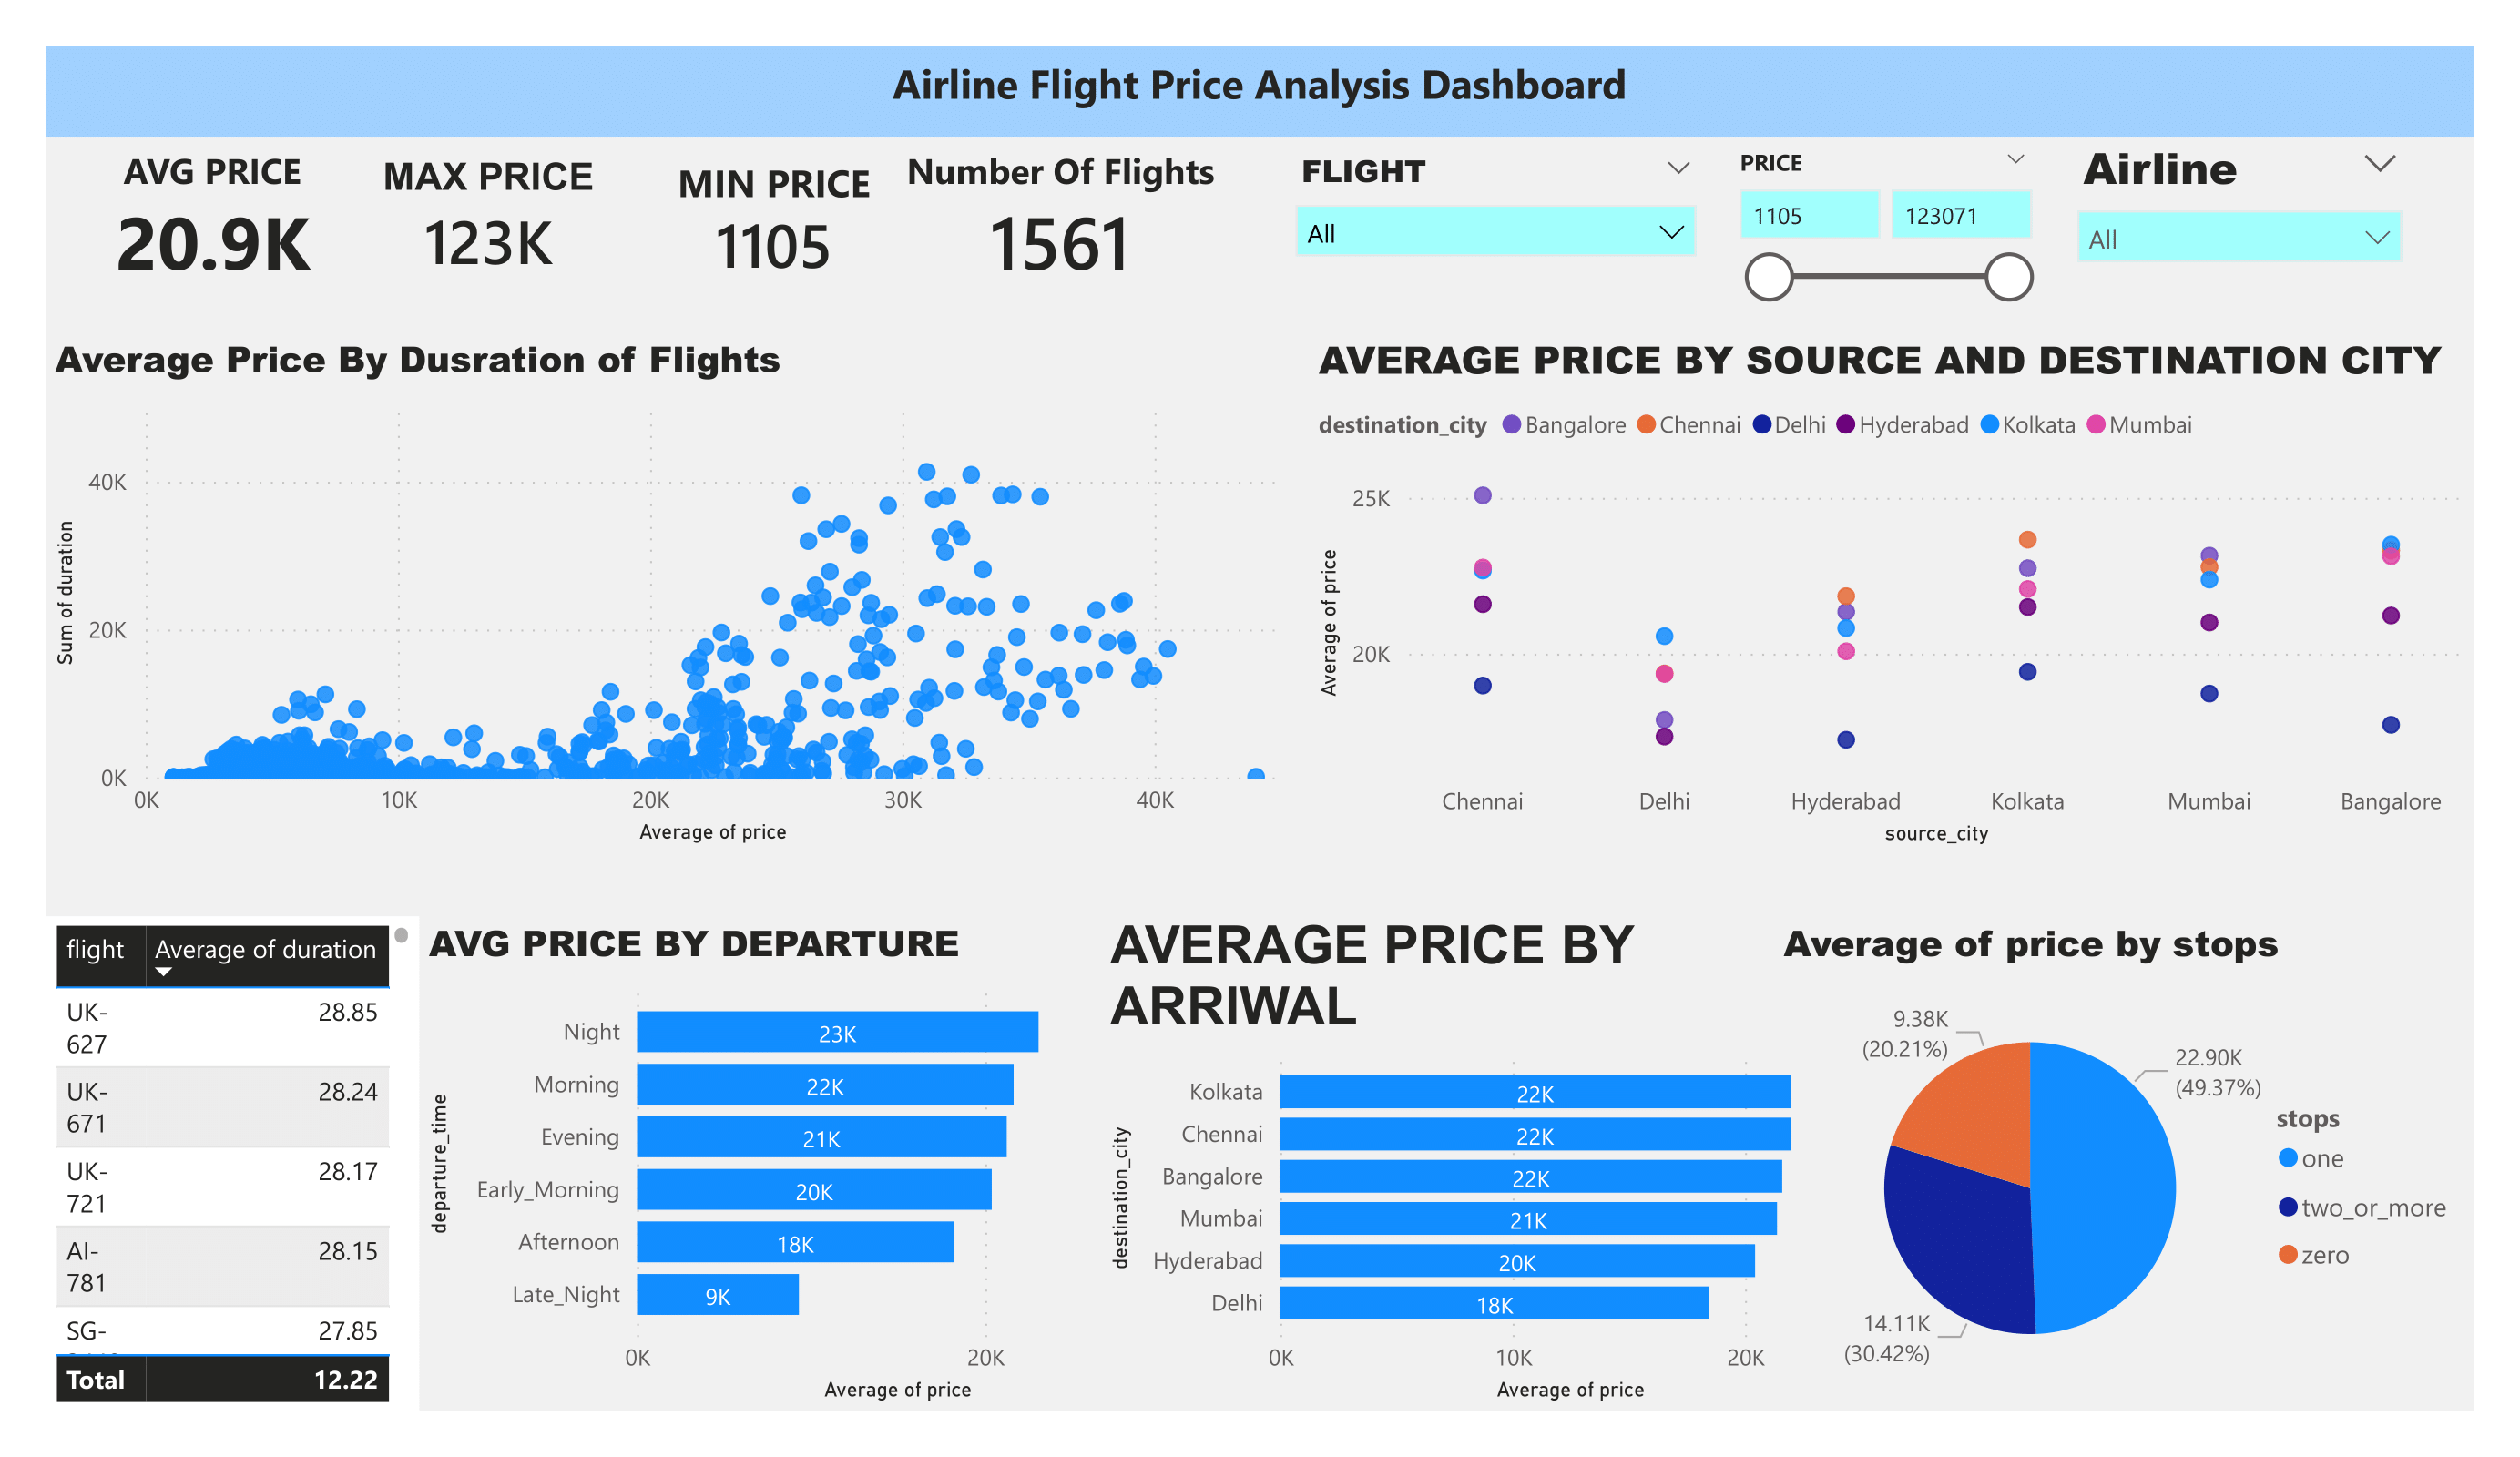

What the dashboard file says about the page in this screenshot:
{"tool":"powerbi","page":{"name":"Page 2","canvas":[1280,720],"ordinal":0},"visuals":[{"type":"card","title":"AVG PRICE","fields":{"Values":["Avg(Clean_Dataset.price)"]},"box":[0,53.1,176.1,73.6],"z":0},{"type":"card","title":"MIN PRICE","fields":{"Values":["Min(Clean_Dataset.price)"]},"box":[303.9,57.9,160.4,68.7],"z":1000},{"type":"card","title":"MAX PRICE","fields":{"Values":["Max(Clean_Dataset.price)"]},"box":[162.8,57.9,141.1,68.7],"z":2000},{"type":"card","title":"Number Of Flights","fields":{"Values":["Count(Clean_Dataset.flight)"]},"box":[446.2,53.1,177.3,73.6],"z":3000},{"type":"slicer","fields":{"Values":["Clean_Dataset.flight"]},"box":[648.8,49.4,231.6,77.2],"z":4000},{"type":"slicer","fields":{"Values":["Clean_Dataset.price"]},"box":[880,48,176,112],"z":5000},{"type":"slicer","fields":{"Values":["Clean_Dataset.airline"]},"box":[1061.3,43.4,190.6,98.9],"z":6000},{"type":"scatterChart","title":"Average Price By Dusration of Flights","fields":{"X":["Avg(Clean_Dataset.price)"],"Y":["Sum(Clean_Dataset.duration)"],"Category":["Clean_Dataset.flight"]},"box":[0,150.8,665.7,275],"z":7000},{"type":"scatterChart","title":"AVERAGE PRICE BY SOURCE AND DESTINATION CITY","fields":{"X":["Clean_Dataset.source_city"],"Y":["Avg(Clean_Dataset.price)"],"Series":["Clean_Dataset.destination_city"]},"box":[665.7,150.8,613.9,275],"z":8000},{"type":"tableEx","fields":{"Values":["Clean_Dataset.flight","Avg(Clean_Dataset.duration)"]},"box":[0,459.5,196.6,260.5],"z":9000},{"type":"barChart","title":"AVG PRICE BY DEPARTURE","fields":{"Category":["Clean_Dataset.departure_time"],"Y":["Avg(Clean_Dataset.price)"]},"box":[196.6,459.5,405.2,260.5],"z":10000},{"type":"barChart","title":"AVERAGE PRICE BY ARRIWAL","fields":{"Y":["Avg(Clean_Dataset.price)"],"Category":["Clean_Dataset.destination_city"]},"box":[556,459.5,416.1,260.5],"z":11000},{"type":"pieChart","fields":{"Category":["Clean_Dataset.stops"],"Y":["Avg(Clean_Dataset.price)"]},"box":[910.6,459.5,369,260.5],"z":12000},{"type":"textbox","box":[0,0,1280,48],"z":12001}]}

Visuals, with their boxes in screenshot pixels (x1, y1, x2, y2):
"AVG PRICE" card: bbox=[46, 147, 380, 286]
"MIN PRICE" card: bbox=[622, 156, 926, 286]
"MAX PRICE" card: bbox=[354, 156, 622, 286]
"Number Of Flights" card: bbox=[893, 147, 1229, 286]
slicer - Clean_Dataset.flight: bbox=[1277, 139, 1716, 286]
slicer - Clean_Dataset.price: bbox=[1716, 137, 2049, 349]
slicer - Clean_Dataset.airline: bbox=[2059, 127, 2421, 315]
"Average Price By Dusration of Flights" scatterChart: bbox=[46, 331, 1309, 853]
"AVERAGE PRICE BY SOURCE AND DESTINATION CITY" scatterChart: bbox=[1309, 331, 2474, 853]
tableEx - Clean_Dataset.flight x Avg(Clean_Dataset.duration): bbox=[46, 917, 419, 1411]
"AVG PRICE BY DEPARTURE" barChart: bbox=[419, 917, 1188, 1411]
"AVERAGE PRICE BY ARRIWAL" barChart: bbox=[1100, 917, 1890, 1411]
pieChart - Clean_Dataset.stops x Avg(Clean_Dataset.price): bbox=[1773, 917, 2474, 1411]
textbox: bbox=[46, 46, 2474, 137]
